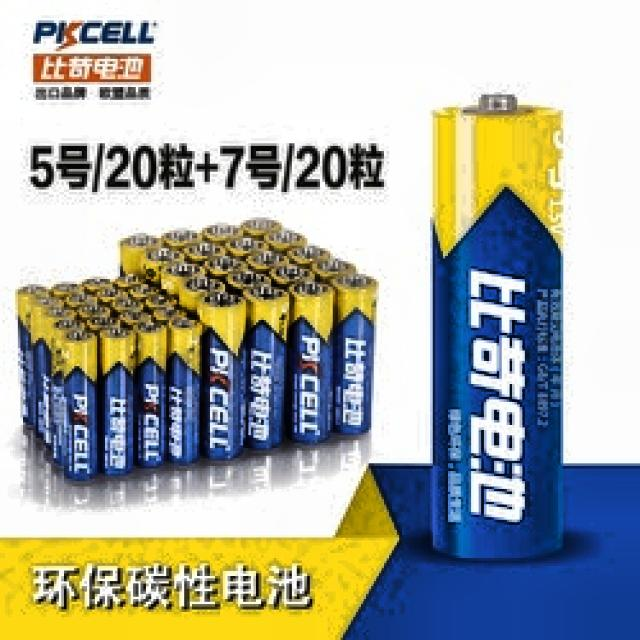Non-Valuable Waste - Batteries: (121, 219, 376, 458), (432, 95, 562, 559), (16, 275, 202, 479)
